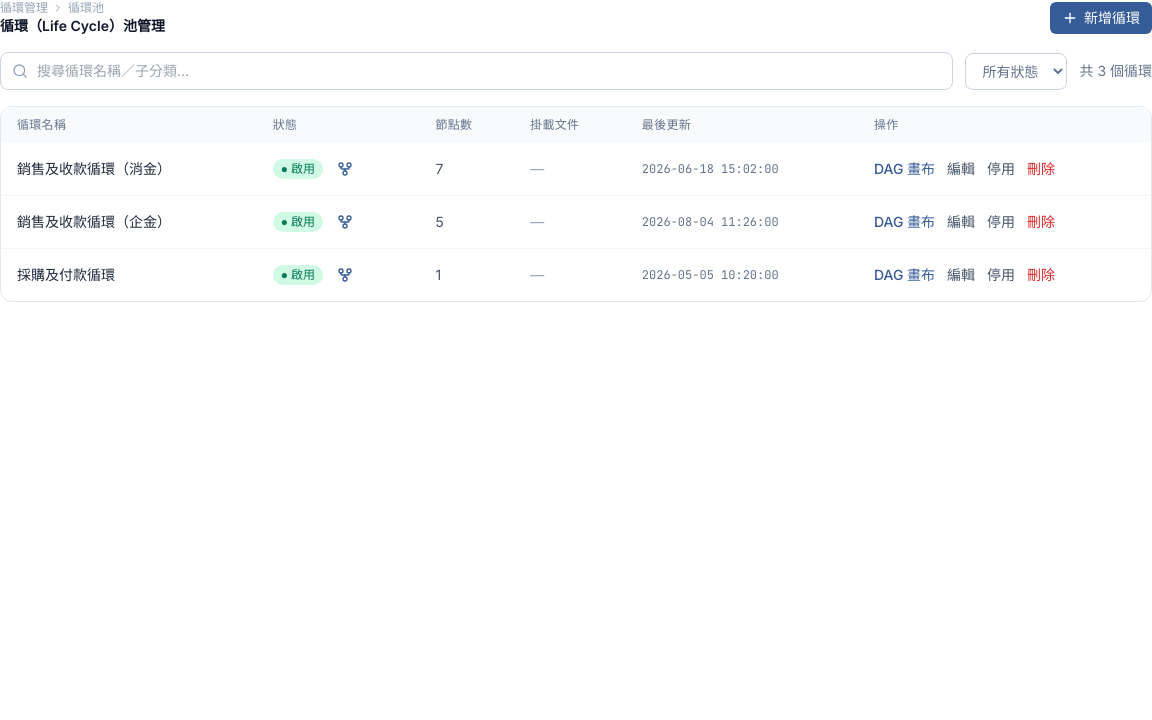
Test: LifecycleListPage — F040 建立 modal 之子分類欄位（AC-02／F007 AC-S1／AC-S2） › modal 含 #lcSub 子分類欄位並標示「非必填」
Expected: the text "銷售及收款循環（消金）" is shown, [17, 160, 171, 177]
Click the button "新增循環".
click(1101, 18)  # box [1050, 2, 1151, 34]
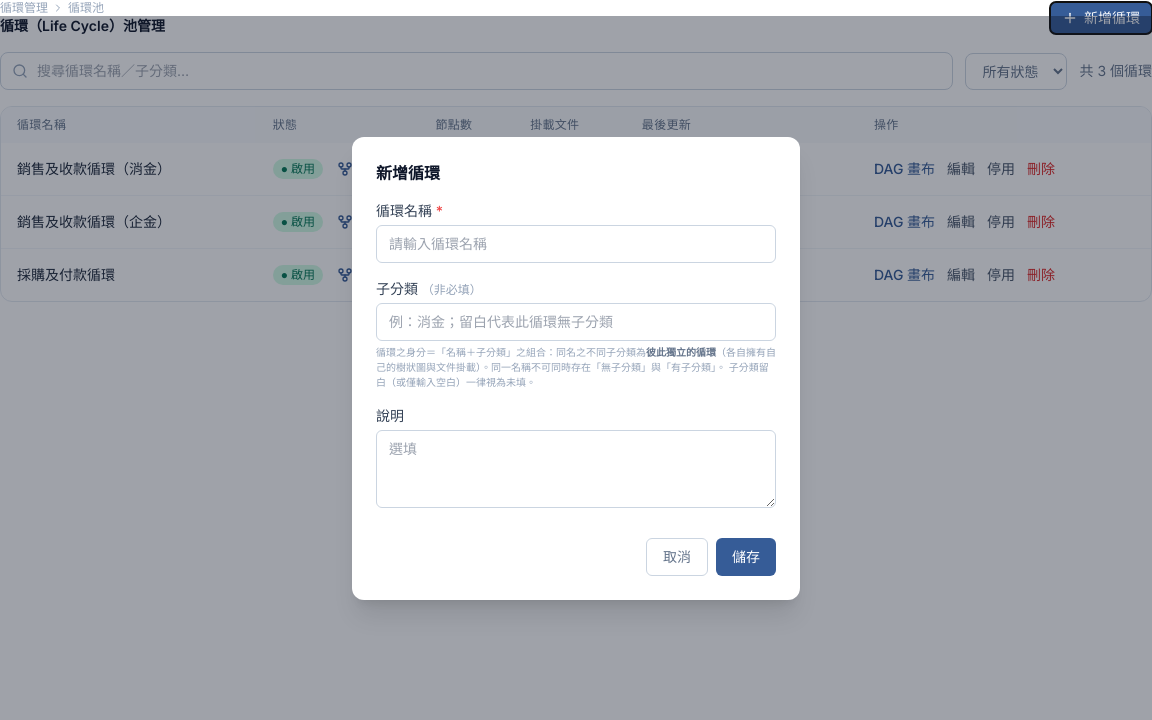
Result: the field labelled "子分類 （非必填）" is shown at [376, 302, 776, 340]
Result: the text "（非必填）" is shown at [422, 282, 482, 296]
